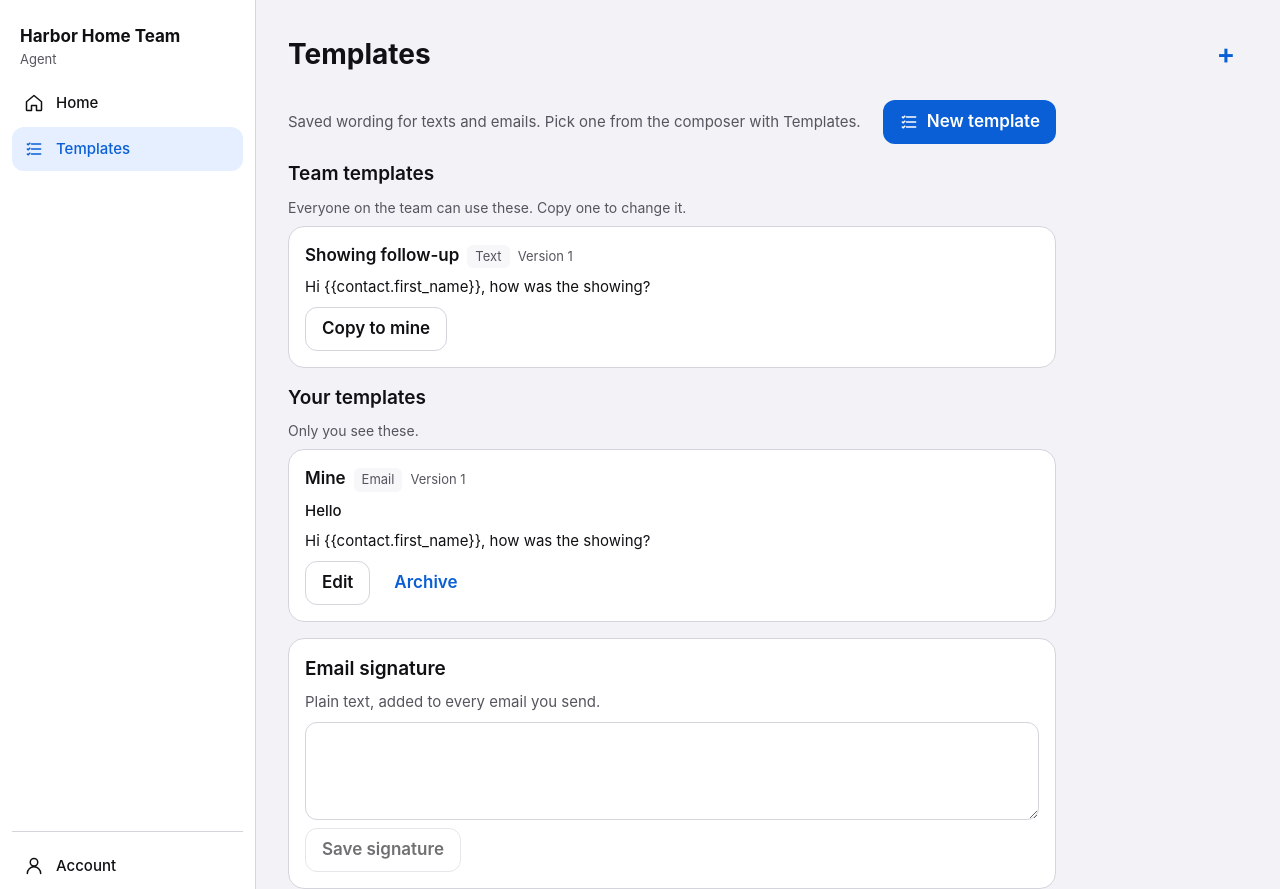
Test case: R-PAR-23 the template library › R-PAR-23 an agent sees team templates read-only with "Copy to mine", and edits only their own
The image size is (1280, 889).
Click the button with aria-label "Copy to mine: Showing follow-up".
click(376, 328)  # box [305,306,447,350]
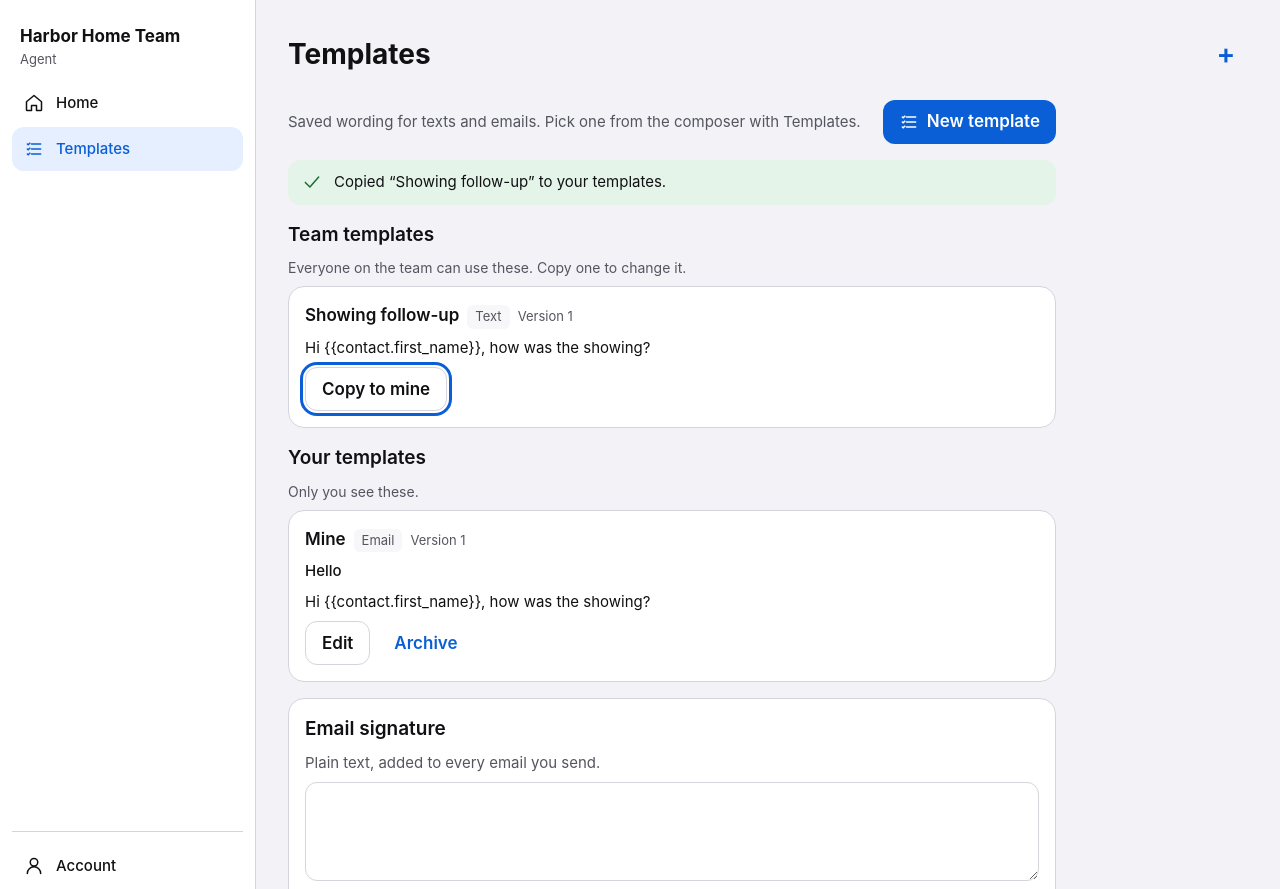
Expected: the button with aria-label "Edit Mine" is shown, [305,621,370,665]
Expected: the text "Copied “Showing follow-up” to your templates." is shown, [334,172,666,191]
